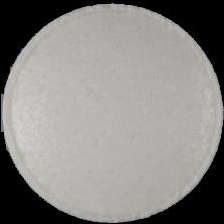50090-0039: (0, 0, 224, 224)
